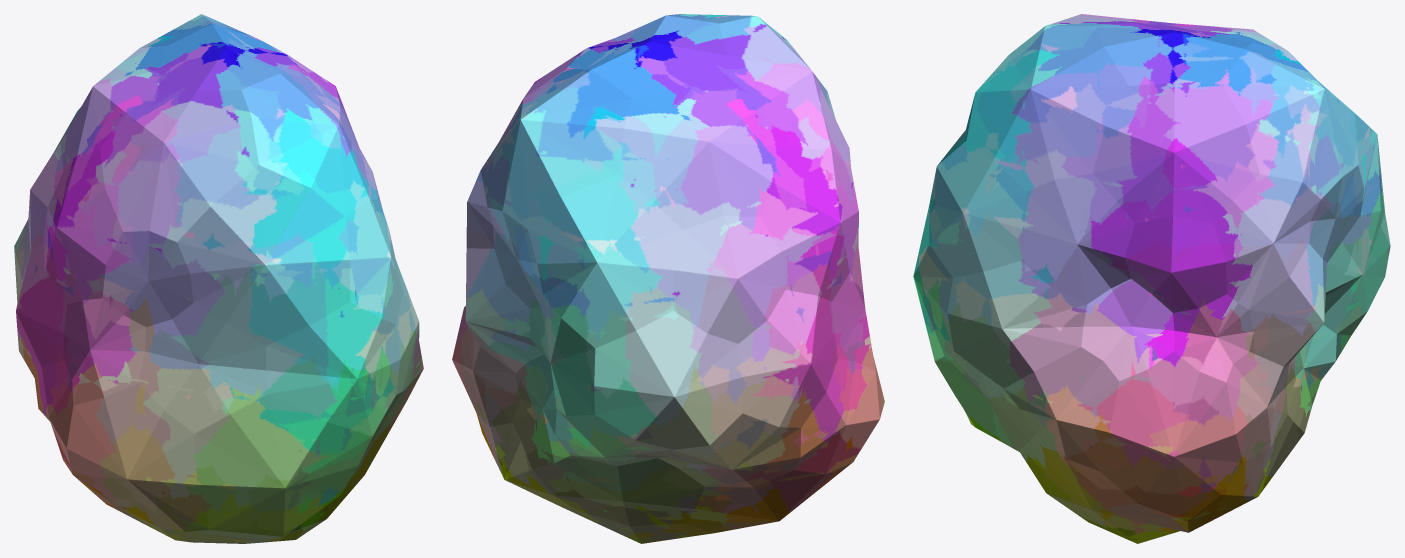
The model's file is RainbowRock4.glb.
3 renders of one model, left to right at view 1: azimuth 30°, elevation 25°; view 2: azimuth 150°, elevation 25°; view 3: azimuth 270°, elevation 25°, orthographic. The views are drawn at different scales.
Visible parts, largest first — view 1: RainbowRock4; view 2: RainbowRock4; view 3: RainbowRock4.
Part boxes in pixels (x1,y1,x2,y2): RainbowRock4: (14,14,423,543); RainbowRock4: (452,14,884,543); RainbowRock4: (913,14,1390,543).
Bounding box in the file's own units: 2.62 × 3.3 × 2.94.
Materials: 1 (1 with a texture image).
